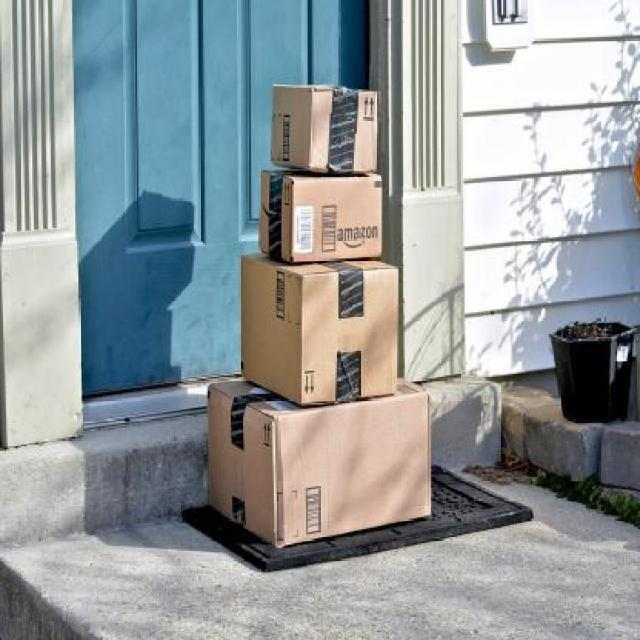box: (206, 380, 432, 550), (242, 250, 400, 403), (259, 168, 384, 260), (270, 82, 374, 173)
